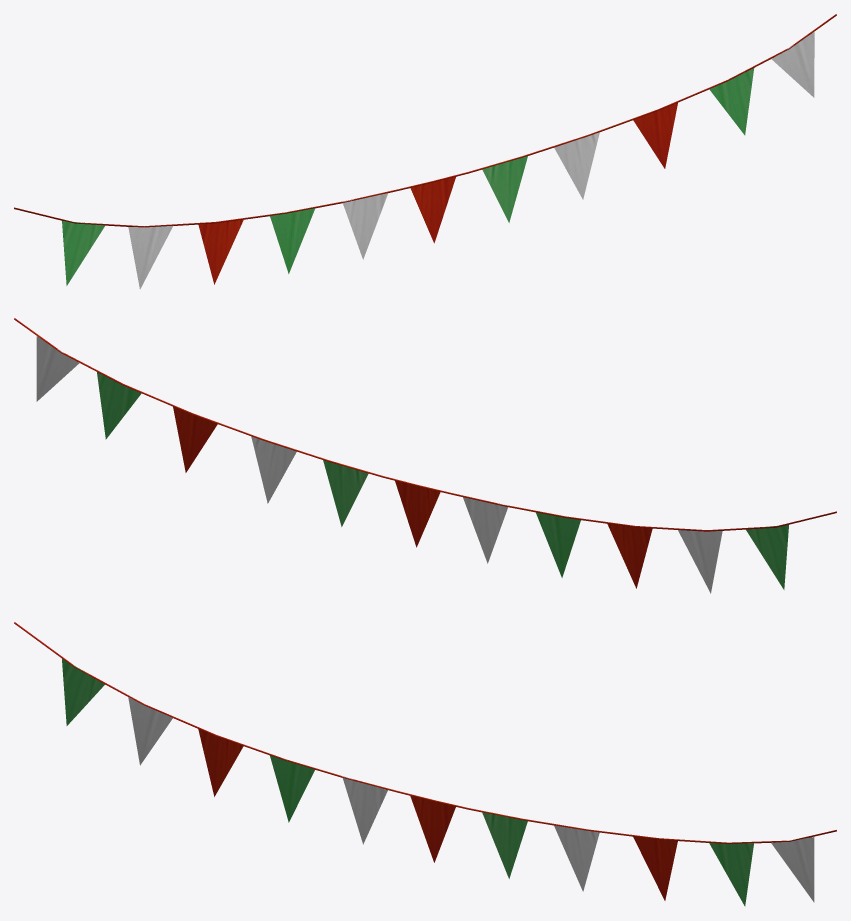
The model's file is Flags.FBX.
3 renders of one model, top to bottom at view 1: azimuth 30°, elevation 25°; view 2: azimuth 150°, elevation 25°; view 3: azimuth 330°, elevation 25°, orthographic.
Visible parts, largest first — view 1: Flags; view 2: Flags; view 3: Flags.
Boxes of the visible parts, <box> form: Flags: <box>14,14,836,289</box>; Flags: <box>14,318,836,593</box>; Flags: <box>14,622,836,906</box>.
Size of the model in its own units: 507 by 81.52 by 0.899.
Materials: 1 (1 with a texture image).
